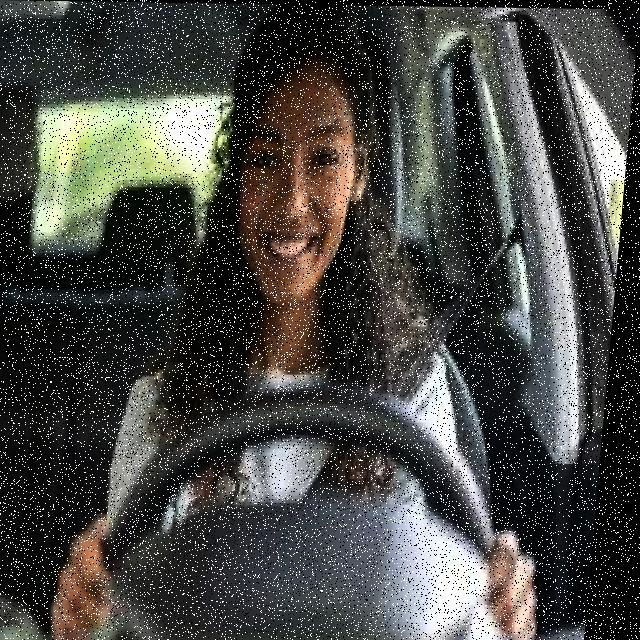seatbelt: (246, 290, 515, 518)
